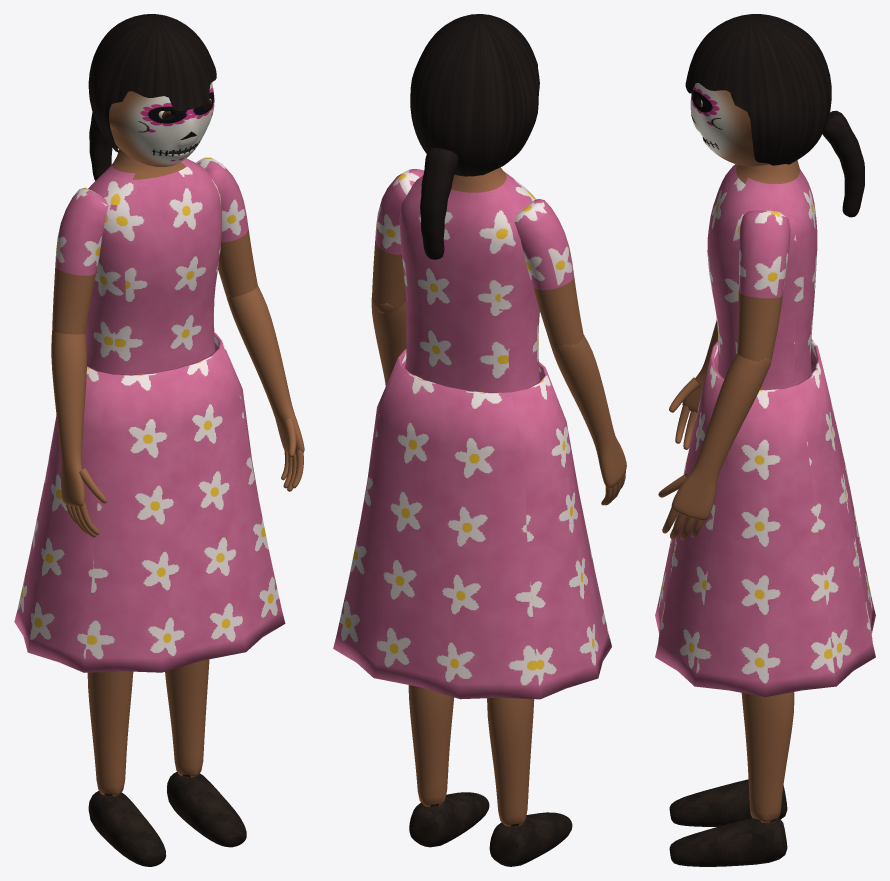
File: persona_nina_calavera.obj
The picture shows the model from 3 angles, left to right: view 1: azimuth 30°, elevation 25°; view 2: azimuth 150°, elevation 25°; view 3: azimuth 270°, elevation 25°; orthographic projection. The views are drawn at different scales.
Visible parts, largest first — view 1: Falda, Torso, Pelo, PiernaDer, PiernaIzq, BrazoDer, AntebrazoDer, Cabeza, AntebrazoIzq, BrazoIzq; view 2: Falda, Torso, Pelo, PiernaDer, PiernaIzq, BrazoDer, AntebrazoDer, BrazoIzq, AntebrazoIzq; view 3: Falda, Pelo, Torso, PiernaIzq, AntebrazoIzq, BrazoIzq, Cabeza, PiernaDer, AntebrazoDer.
Boxes of the visible parts, x1,y1,x2,y2 form: Falda: (14,332,285,672); Torso: (85,148,221,374); Pelo: (88,14,216,180); PiernaDer: (87,671,166,866); PiernaIzq: (165,659,246,847); BrazoDer: (52,187,108,334); AntebrazoDer: (51,330,107,537); Cabeza: (109,82,214,166); AntebrazoIzq: (226,285,304,491); BrazoIzq: (196,157,257,297); Falda: (333,349,611,699); Torso: (399,167,539,392); Pelo: (410,14,539,259); PiernaDer: (487,697,572,866); PiernaIzq: (408,685,489,847); BrazoDer: (514,199,583,355); AntebrazoDer: (552,335,626,505); BrazoIzq: (372,169,424,313); AntebrazoIzq: (371,294,406,385); Falda: (655,339,875,696); Pelo: (685,14,864,217); Torso: (707,160,817,389); PiernaIzq: (669,692,794,866); AntebrazoIzq: (658,353,771,540); BrazoIzq: (737,210,790,368); Cabeza: (690,83,768,166); PiernaDer: (669,779,787,826); AntebrazoDer: (669,319,717,449).
Bounding box in the file's own units: 0.3628 × 1.15 × 0.2787.
10 materials, 10 textured.
